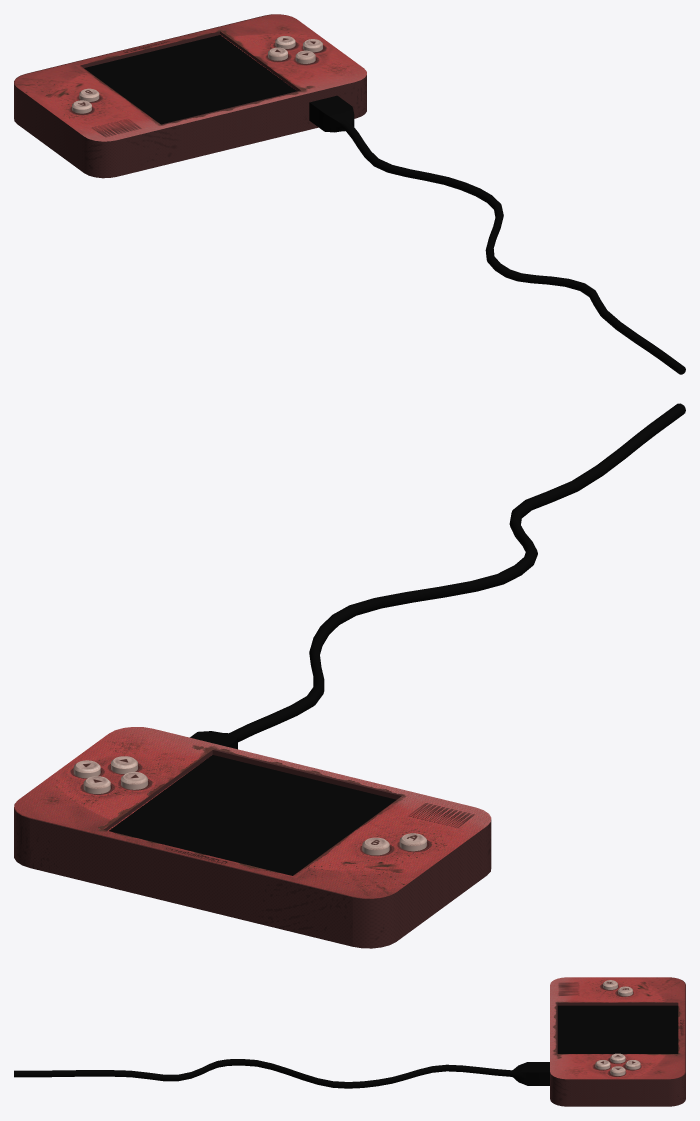
The model's file is GameBoy.fbx.
3 views of the same model, one above another, from view 1: azimuth 30°, elevation 25°; view 2: azimuth 150°, elevation 25°; view 3: azimuth 270°, elevation 25° (orthographic). The views are drawn at different scales.
Parts seen in each view (by area): view 1: Case2, Case1, Wire; view 2: Case2, Wire, Case1; view 3: Case2, Wire, Case1.
Boxes of the visible parts, x1,y1,x2,y2 form: Case2: [14, 14, 366, 141]; Case1: [14, 75, 366, 178]; Wire: [309, 95, 685, 374]; Case2: [14, 727, 491, 946]; Wire: [190, 403, 685, 749]; Case1: [14, 808, 491, 948]; Case2: [550, 977, 685, 1079]; Wire: [14, 1059, 549, 1088]; Case1: [550, 1072, 685, 1106].
Bounding box in the file's own units: 1600 × 230 × 4450.
